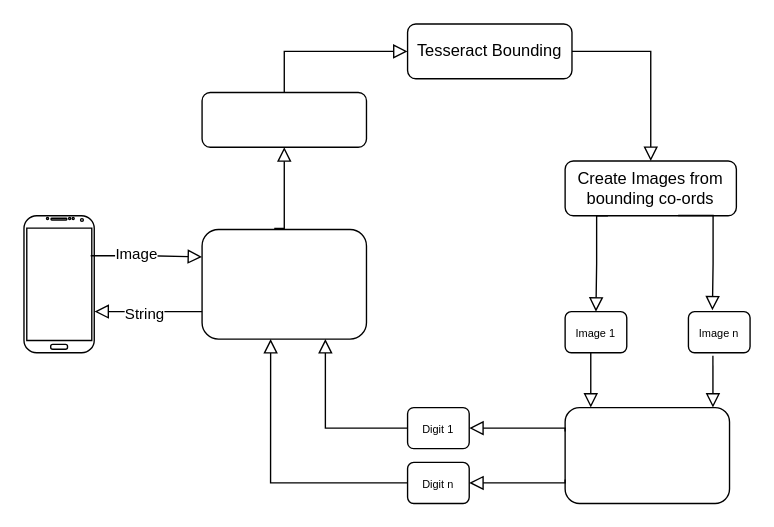
Image size: 774x527. Some labels were removed from this diagram. Each missing label, with the box of its shape:
Digit Reader Web App: (201, 228, 366, 339)
Process Image: (201, 91, 366, 147)
ResNet50 Classifier: (564, 406, 730, 503)
